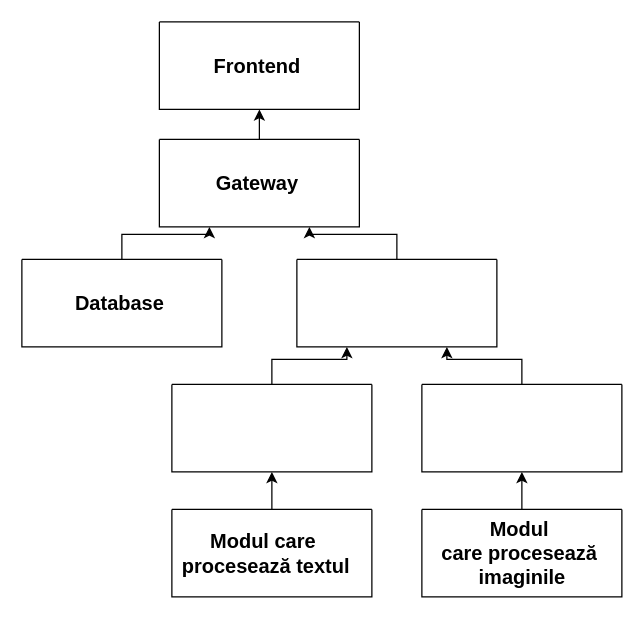
This 644x619 diagram has some shape labels left out. Each missing label, with the box of its shape:
Modul care clasifică imaginile: (421, 383, 622, 472)
Modul care clasifică textul: (171, 383, 372, 472)
Modul care procesează datele: (296, 258, 497, 347)
